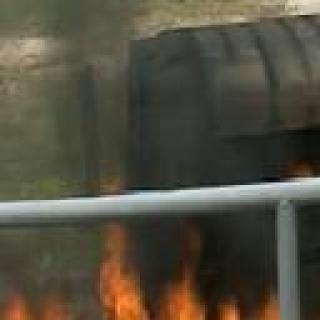fire: (101, 218, 276, 320), (0, 255, 82, 320)
